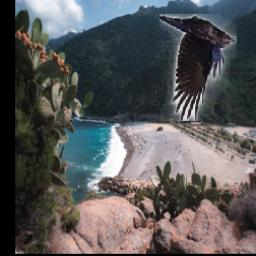Crow: (159, 14, 237, 121)
